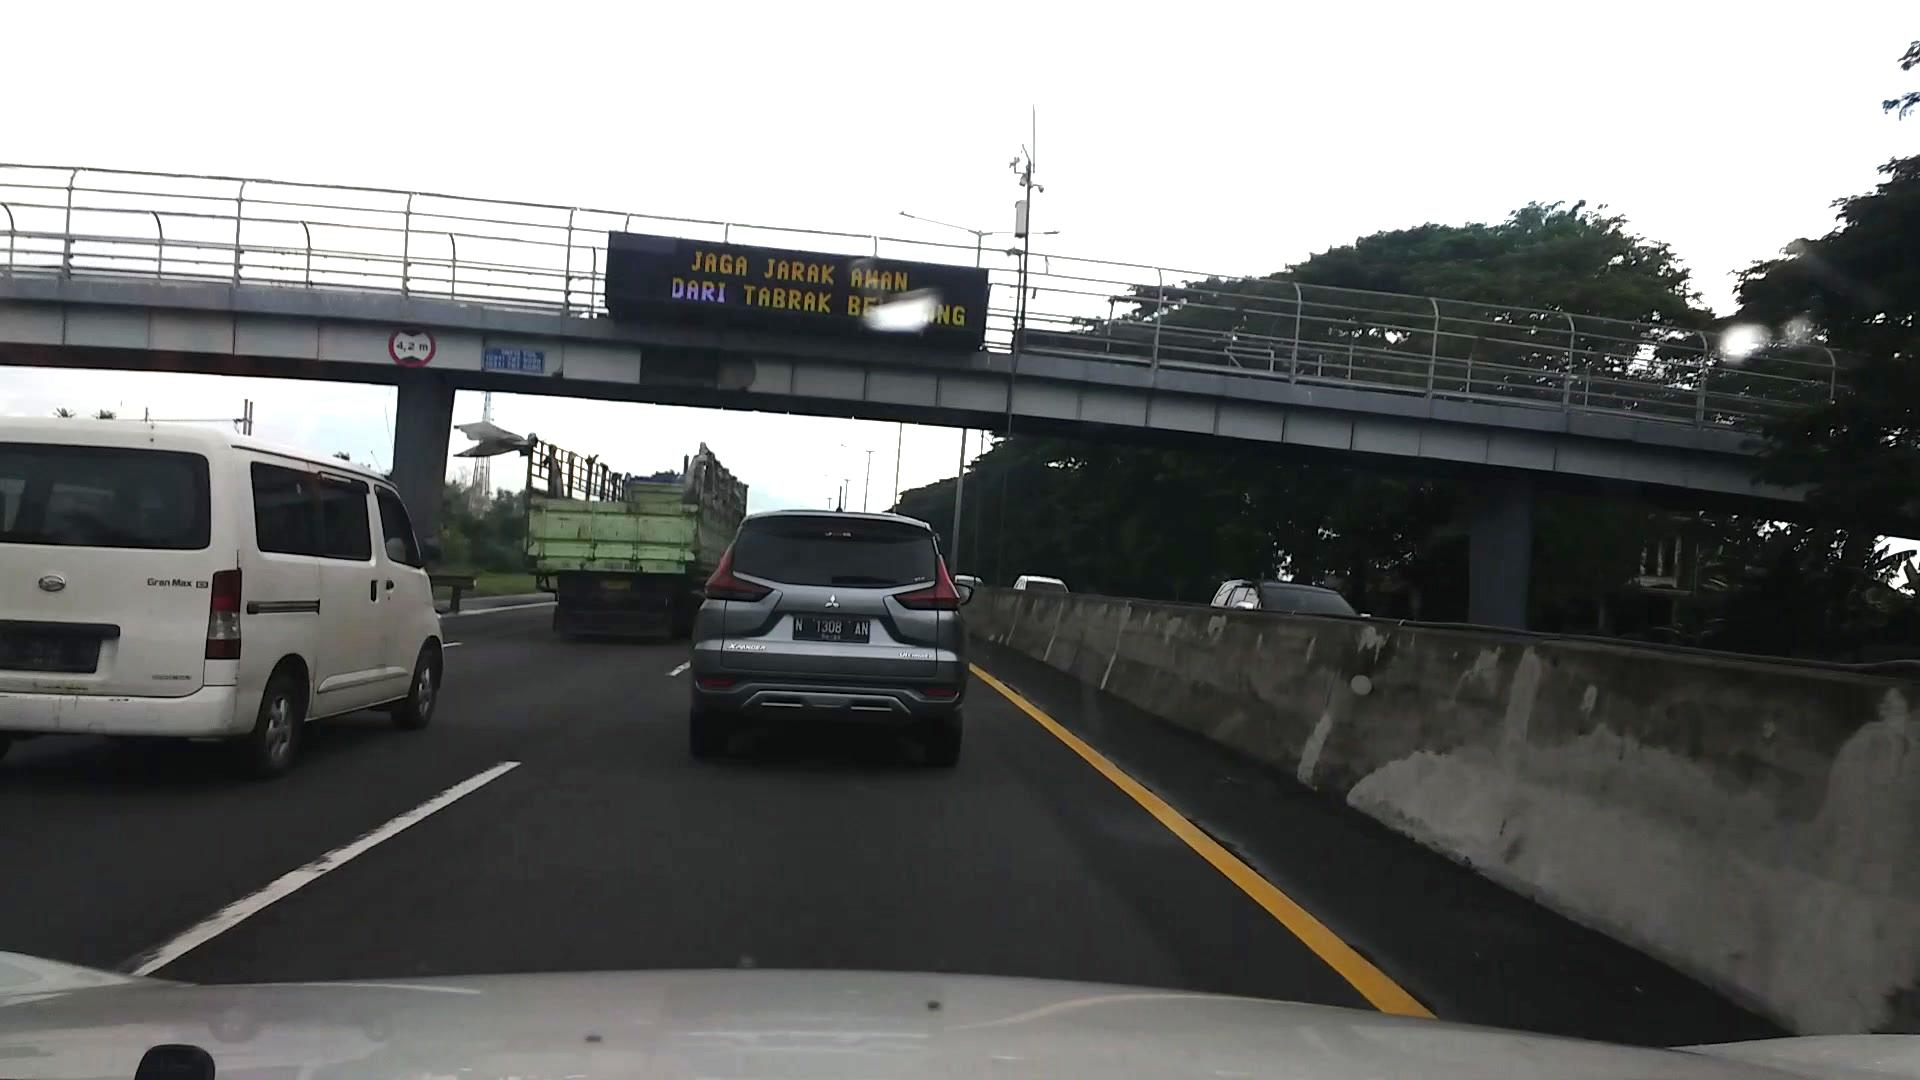plate_positive: (793, 615, 870, 644)
